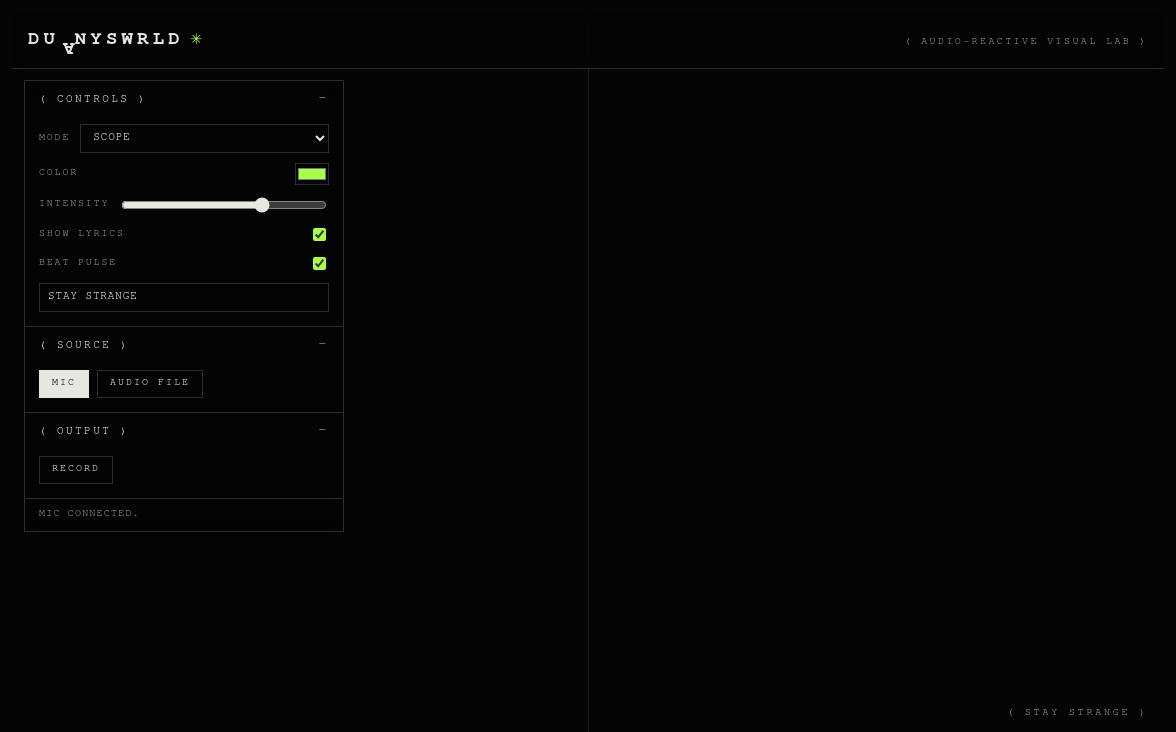
it: recording — unsupported environments › reports when the canvas cannot be captured
Click the button "Record" at (76, 470), box [39,456,113,484]
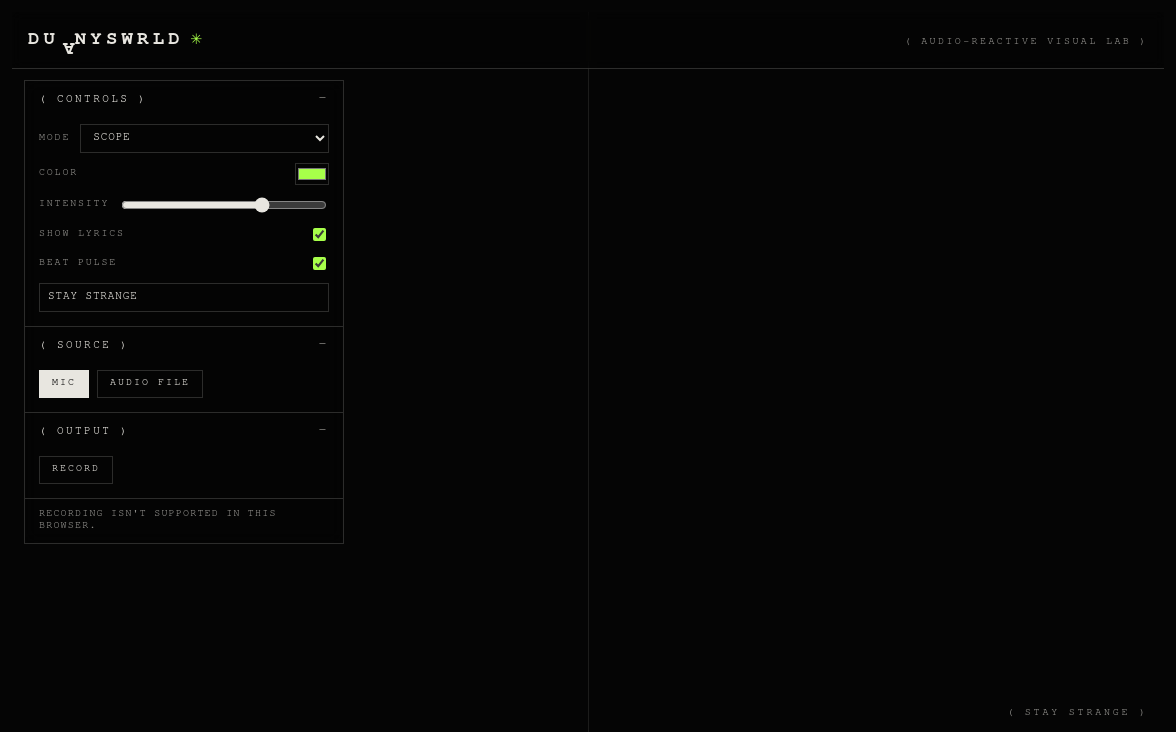
Check: the message reads "Recording isn't supported in this browser.", box [39,510,277,532]
